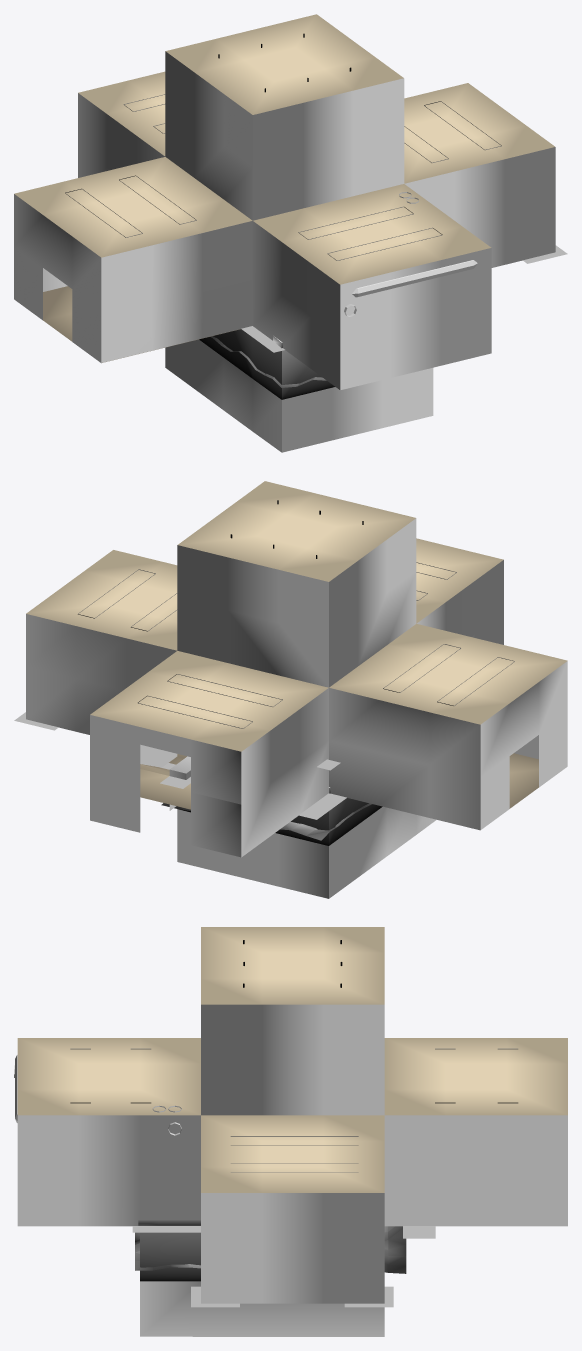
File: mint_goon_room.fbx
The picture shows the model from 3 angles, top to bottom: view 1: azimuth 30°, elevation 25°; view 2: azimuth 150°, elevation 25°; view 3: azimuth 270°, elevation 25°; orthographic projection. The views are drawn at different scales.
Parts seen in each view (by area): view 1: wall, floor, pipes, lights; view 2: wall, floor, lights, shadows, money; view 3: wall, money, shadows, lights, metalpillars.
Part boxes in pixels (left/top/right/bottom): wall: left=14, top=14, right=555, bottom=452; floor: left=43, top=286, right=240, bottom=362; pipes: left=344, top=192, right=477, bottom=316; lights: left=65, top=33, right=501, bottom=260; wall: left=26, top=481, right=567, bottom=898; floor: left=140, top=753, right=538, bottom=809; lights: left=78, top=500, right=514, bottom=728; shadows: left=160, top=759, right=346, bottom=819; money: left=161, top=803, right=371, bottom=840; wall: left=17, top=927, right=567, bottom=1336; money: left=135, top=1226, right=406, bottom=1273; shadows: left=132, top=1226, right=435, bottom=1238; lights: left=70, top=940, right=517, bottom=1172; metalpillars: left=191, top=1286, right=393, bottom=1307.
Size of what is drawn, in the model's own units: 41.43 by 41.83 by 27.72.
